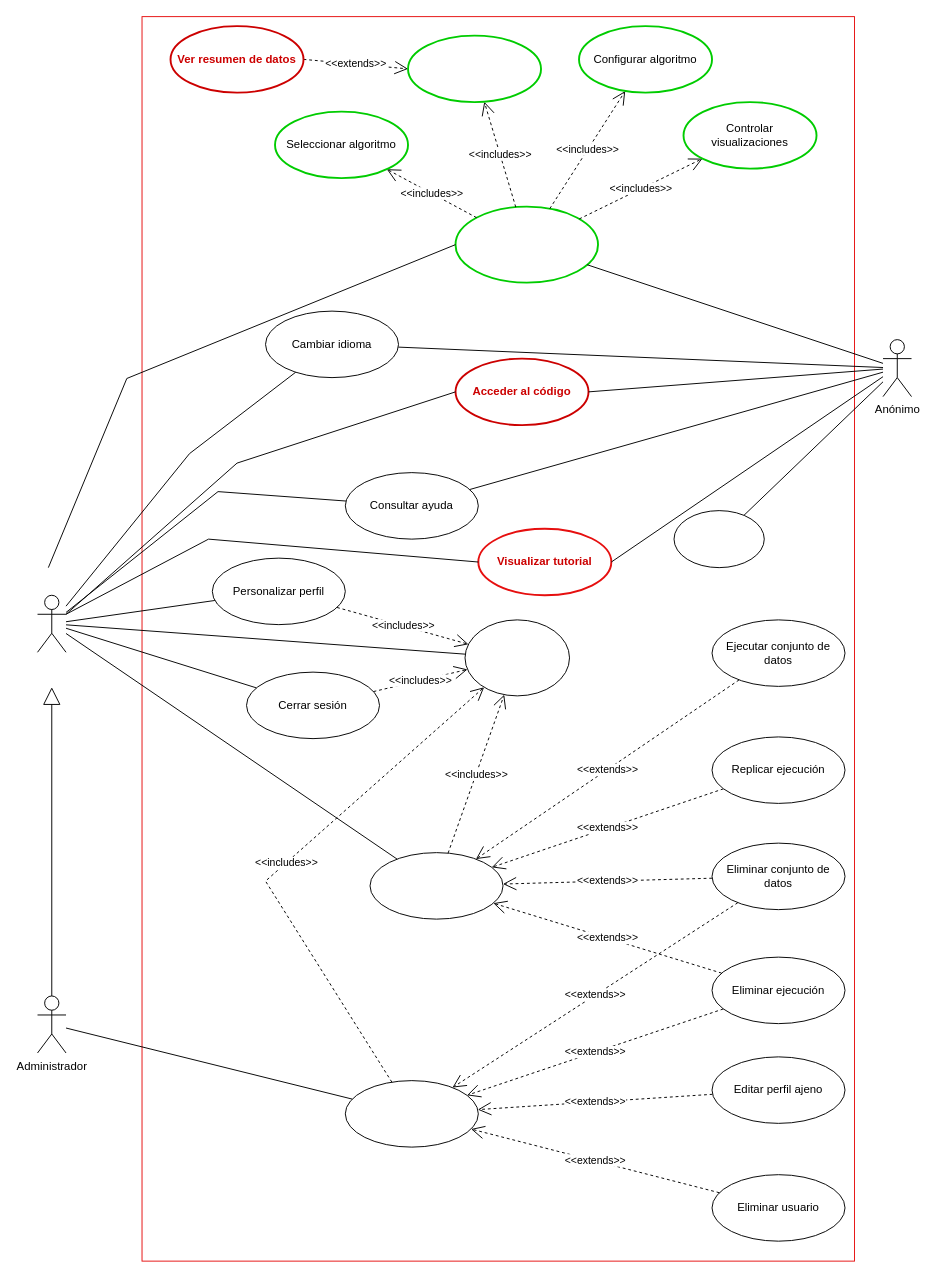
Image size: 936x1278. Some labels were removed from this diagram. Each missing label, with the box of its shape:
Acceder espacio personal: (369, 852, 503, 919)
Acceder panel de administración: (344, 1080, 478, 1147)
Cargar conjunto de datos: (407, 34, 542, 103)
Iniciar sesión: (464, 619, 570, 696)
Registrar: (673, 510, 764, 568)
Usuario: (37, 594, 66, 652)
Visualizar algoritmo: (454, 205, 598, 283)
